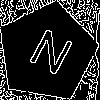N: (22, 27, 76, 86)
